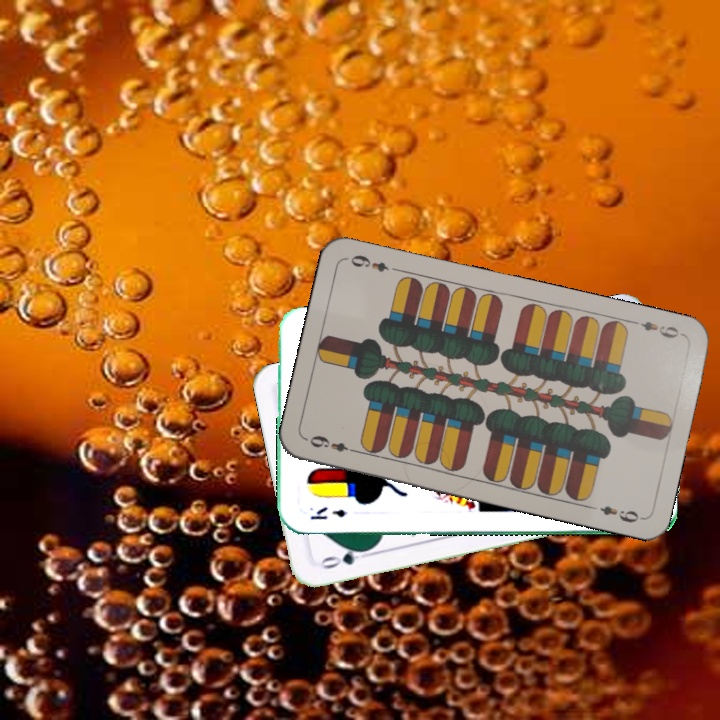E9: (628, 316, 686, 341), (305, 431, 361, 456)
EK: (307, 503, 350, 523)
GO: (313, 544, 372, 572)
